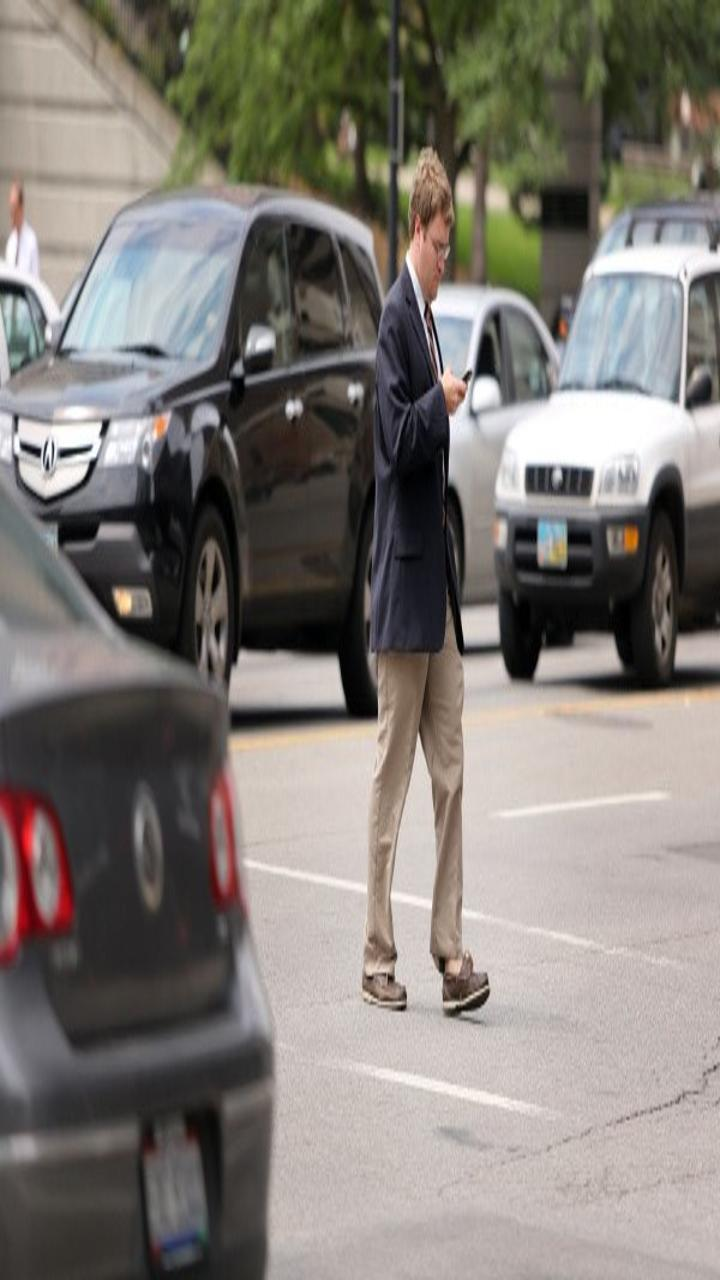pedestrian: (338, 152, 502, 1028)
vehicle: (1, 435, 316, 1279), (4, 170, 407, 723), (490, 220, 720, 672)
